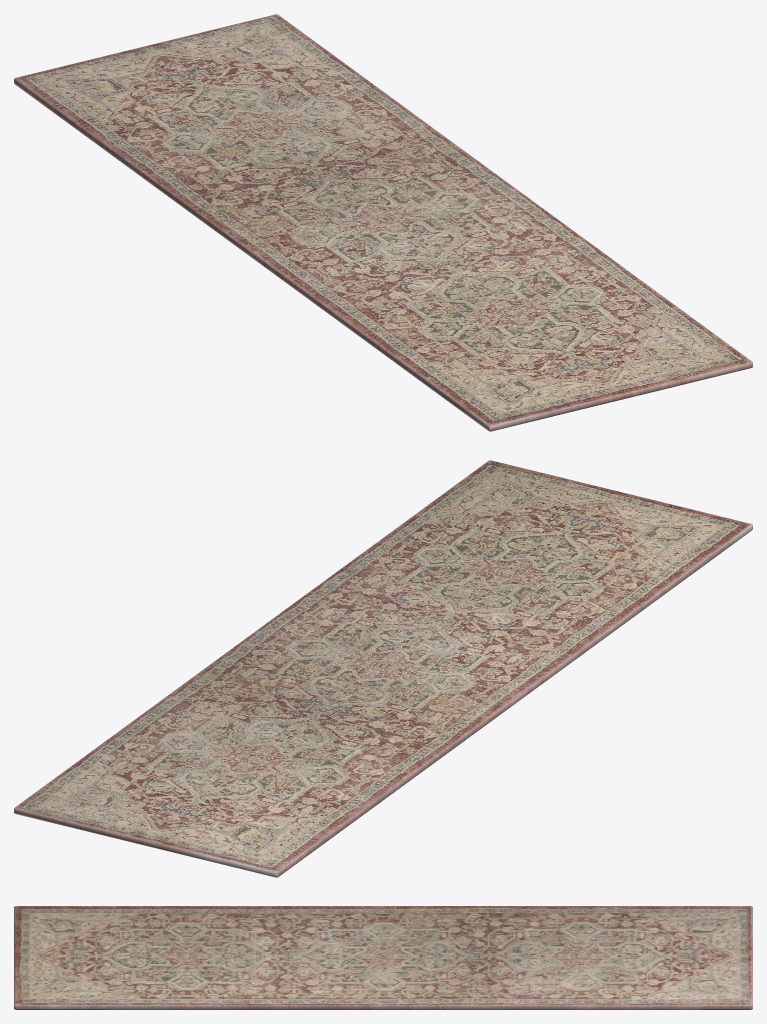
File: 23 - JÄRNVÄG Rug, low pile - ornament pattern pinkbeige 80x250 cm.glb
3 views of the same model, one above another, from view 1: azimuth 30°, elevation 25°; view 2: azimuth 150°, elevation 25°; view 3: azimuth 270°, elevation 25° (orthographic). The views are drawn at different scales.
Visible parts, largest first — view 1: 60623067_60623067_us; view 2: 60623067_60623067_us; view 3: 60623067_60623067_us.
Boxes of the visible parts, <box> form: 60623067_60623067_us: <box>14,14,752,431</box>; 60623067_60623067_us: <box>14,460,752,877</box>; 60623067_60623067_us: <box>14,906,752,1009</box>.
Bounding box in the file's own units: 0.7999 × 0.0183 × 2.5.
1 material, 1 textured.
